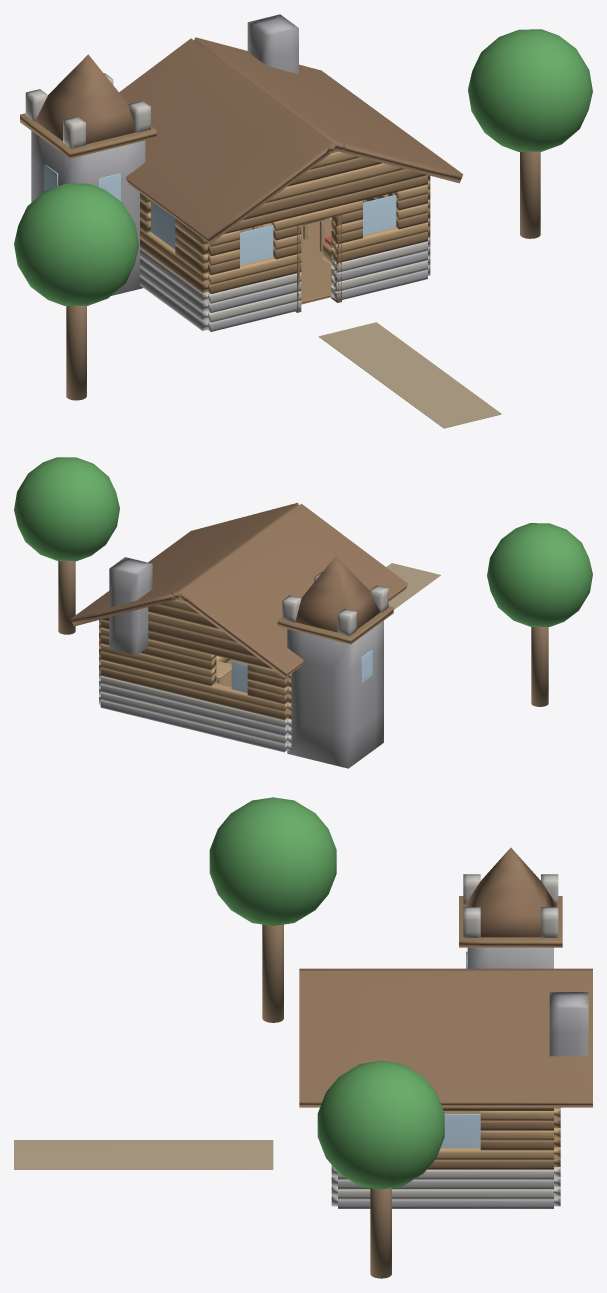
File: cabana_4_torre_de_vigia.glb
3 renders of one model, top to bottom at view 1: azimuth 30°, elevation 25°; view 2: azimuth 150°, elevation 25°; view 3: azimuth 270°, elevation 25°, orthographic. The views are drawn at different scales.
Visible parts, largest first — view 1: TechoIzq, Muro (×20), Arbol2_Copa, Arbol1_Copa, TechoDer, Camino, TorreTecho, TorreMuro, Fronton (×3), Cristal (×3), Chimenea, Suelo (+5 smaller); view 2: TechoIzq, Muro (×11), TorreMuro, Arbol1_Copa, Arbol2_Copa, TechoDer, TorreTecho, Chimenea, Fronton (×3), Arbol2_Tronco, Arbol1_Tronco, TorreSuelo (+3 smaller); view 3: TechoDer, Muro (×10), Arbol2_Copa, Arbol1_Copa, Camino, TorreTecho, Chimenea, Arbol2_Tronco, Arbol1_Tronco, TorreMuro, TorreSuelo, Cristal (+1 smaller).
Part boxes in pixels (x1,y1,x2,y2): TechoIzq: [119, 38, 336, 243]; Muro (×20): [140, 175, 427, 331]; Arbol2_Copa: [14, 183, 138, 305]; Arbol1_Copa: [468, 29, 592, 151]; TechoDer: [194, 37, 463, 183]; Camino: [318, 322, 501, 428]; TorreTecho: [35, 54, 135, 144]; TorreMuro: [31, 131, 145, 295]; Fronton (×3): [243, 157, 427, 219]; Cristal (×3): [151, 194, 396, 265]; Chimenea: [247, 14, 298, 74]; Suelo: [240, 218, 331, 304]; TechoIzq: [178, 504, 407, 677]; Muro (×11): [100, 619, 287, 752]; TorreMuro: [287, 621, 383, 768]; Arbol1_Copa: [14, 457, 119, 561]; Arbol2_Copa: [487, 523, 592, 626]; TechoDer: [71, 502, 298, 626]; TorreTecho: [295, 556, 380, 632]; Chimenea: [109, 557, 152, 655]; Fronton (×3): [101, 604, 257, 657]; Arbol2_Tronco: [531, 627, 548, 706]; Arbol1_Tronco: [58, 561, 75, 634]; TorreSuelo: [277, 606, 393, 644]; TechoDer: [299, 971, 592, 1107]; Muro (×10): [338, 1111, 553, 1208]; Arbol2_Copa: [209, 797, 336, 925]; Arbol1_Copa: [317, 1061, 444, 1189]; Camino: [14, 1140, 273, 1169]; TorreTecho: [465, 847, 556, 937]; Chimenea: [549, 992, 588, 1056]; Arbol2_Tronco: [262, 924, 283, 1022]; Arbol1_Tronco: [370, 1188, 391, 1278]; TorreMuro: [467, 947, 553, 968]; TorreSuelo: [459, 896, 562, 947]; Cristal: [440, 1113, 480, 1147].
Size of what is drawn, in the model's own units: 1.1 by 0.39 by 0.871.
